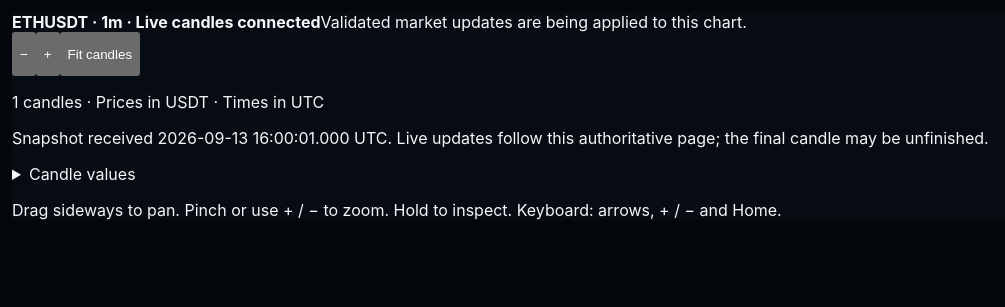
Test: presents the exact authoritative activation snapshot and keeps zero and non-zero decimal strings distinct
expect the text "1 candles · Prices in USDT · Times in UTC" is shown: met, box [12,92,324,112]
expect the text "Snapshot received 2026-09-13 16:00:01.000 UTC" is shown: met, box [12,128,989,148]
Click the heading "Candle values".
click(82, 174)  # box [29,164,136,184]
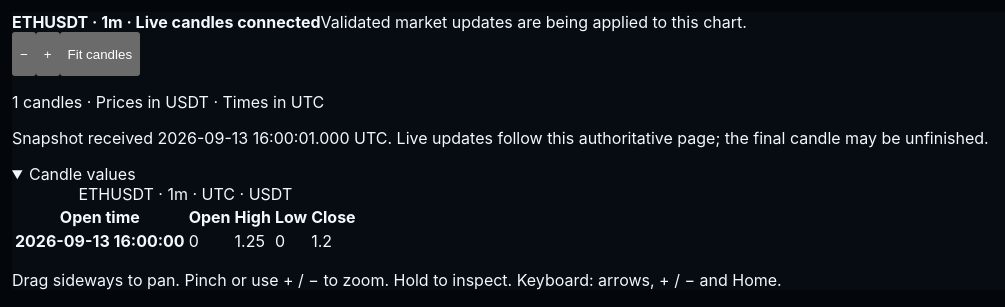
expect the element named "Candle values table" shows "2026-09-13 16:00:00": met, box [15,231,185,251]
expect the element named "Candle values table" shows "0": met, box [189,231,199,251]
expect the element named "Candle values table" shows "1.25": met, box [234,231,265,251]
